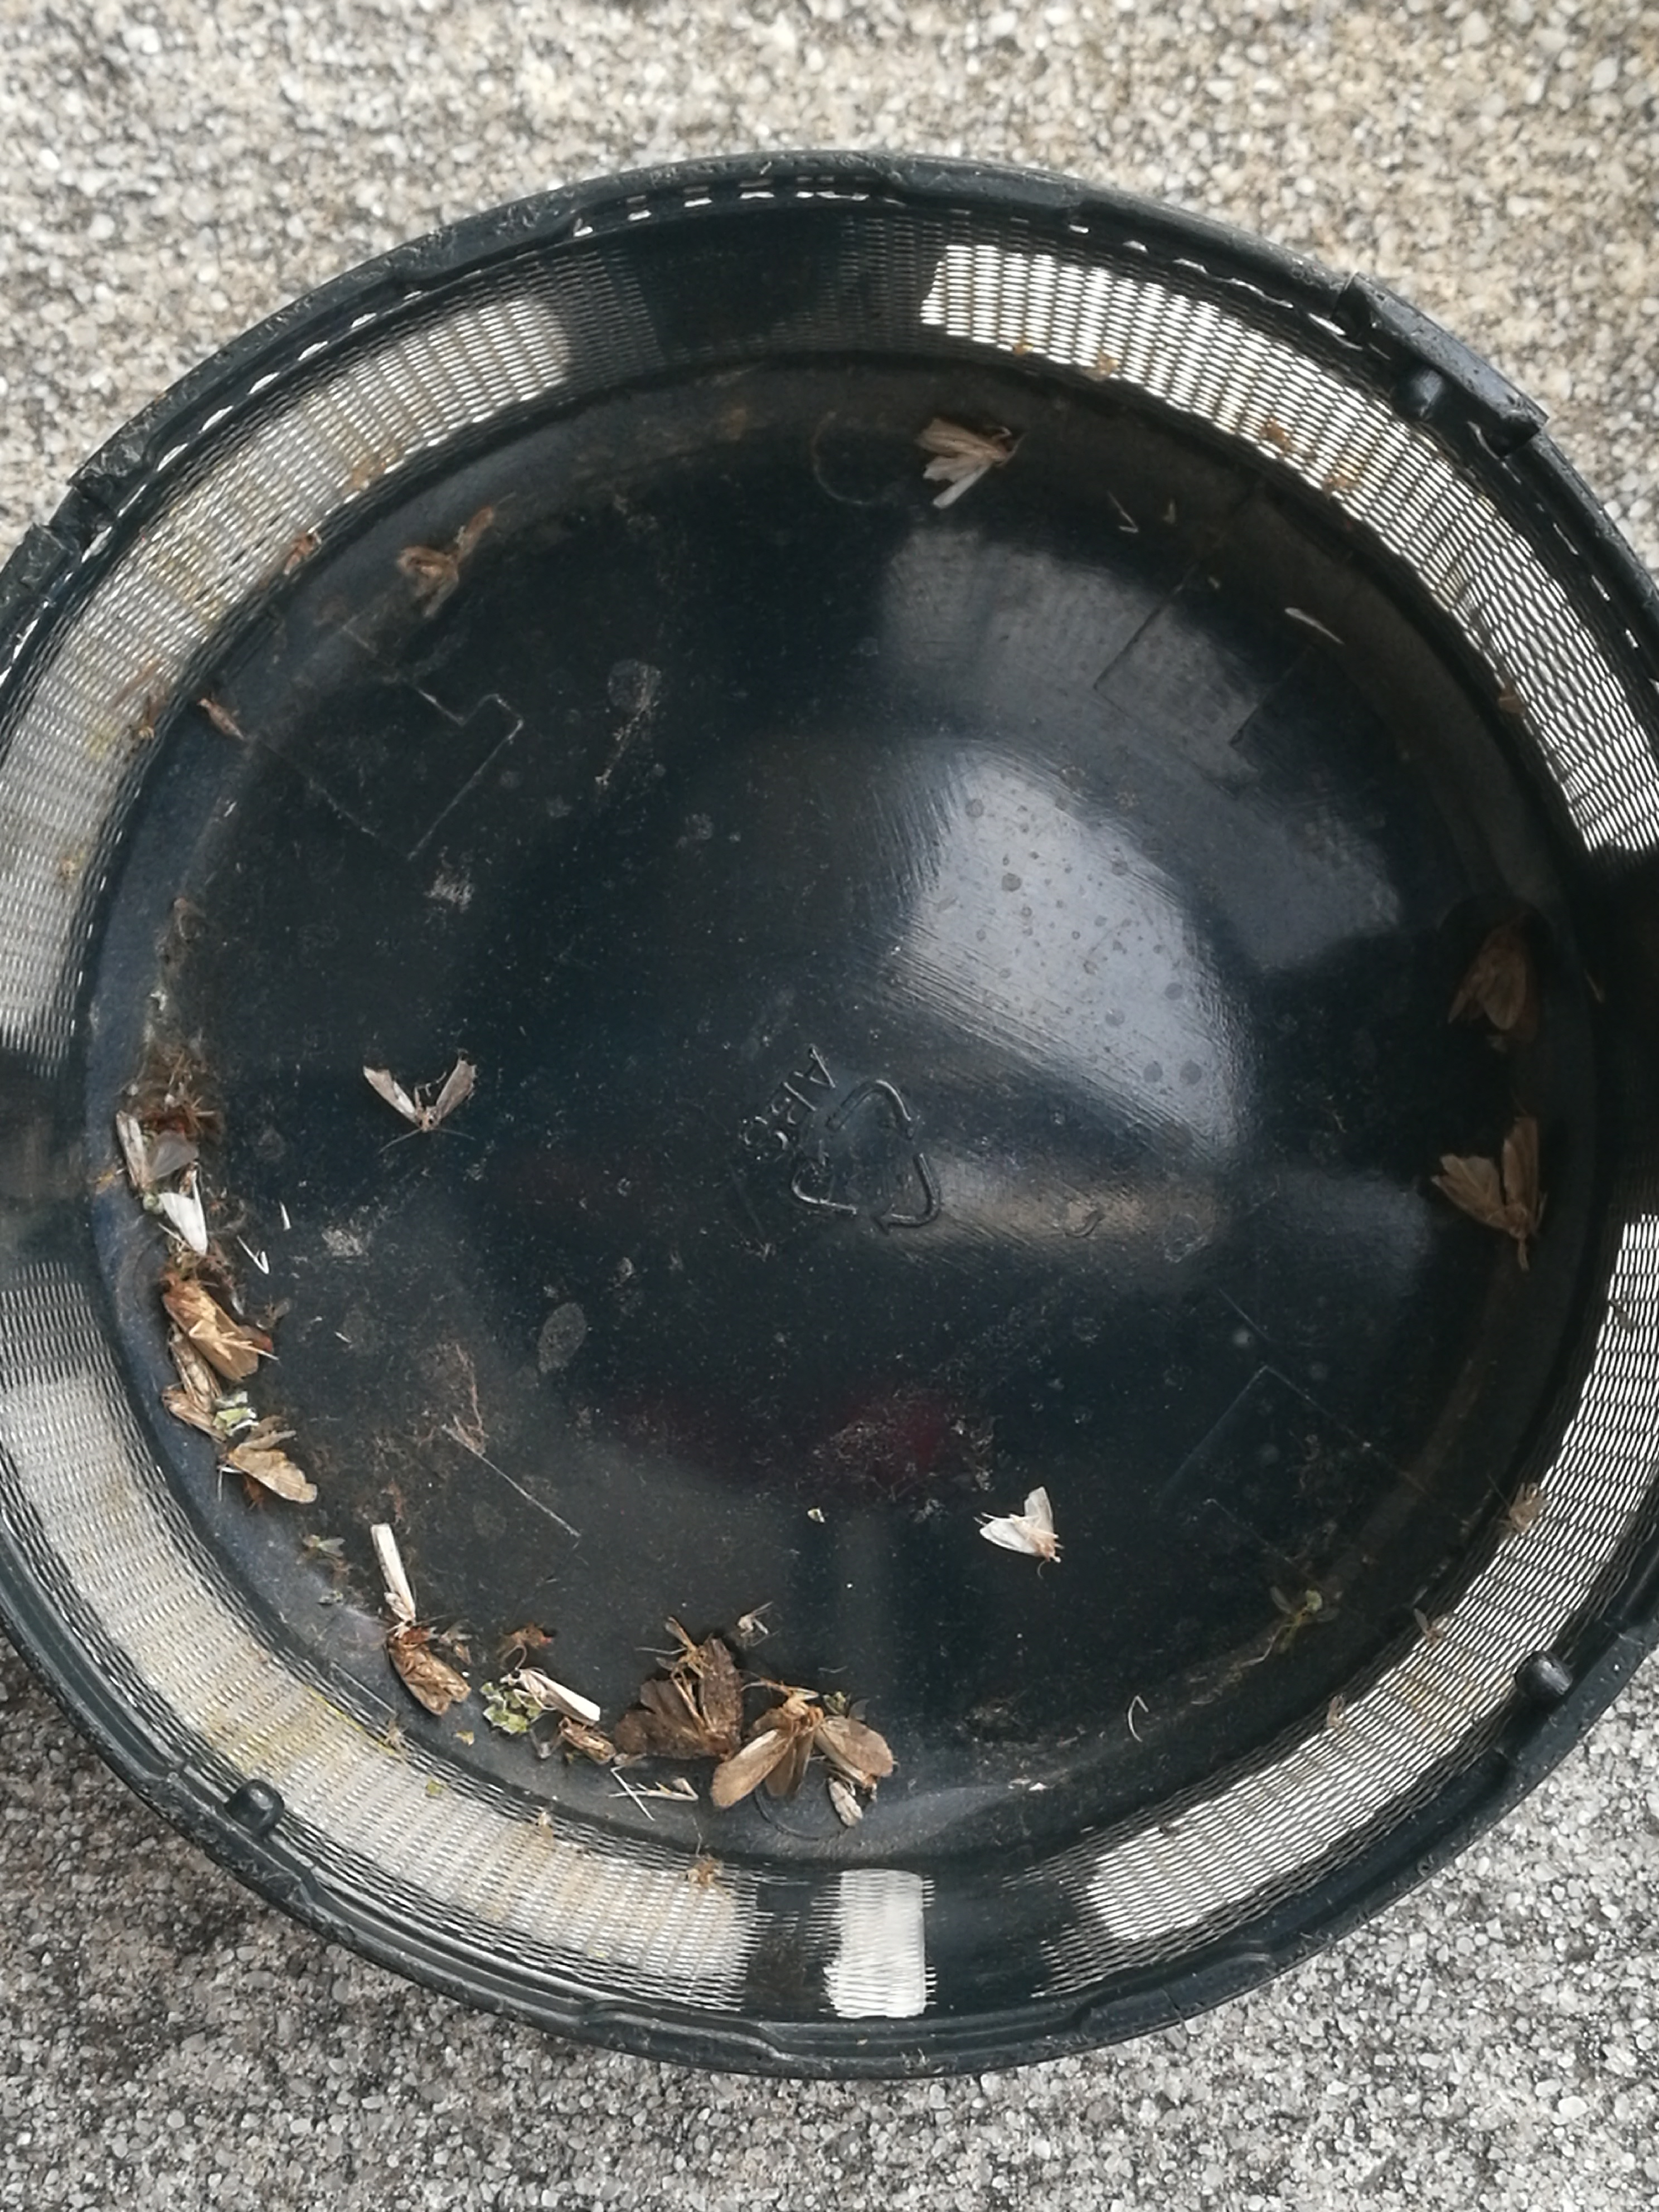mosquito: (159, 1271, 258, 1381), (495, 1672, 601, 1724), (169, 1322, 221, 1407), (373, 1522, 413, 1629), (162, 1392, 228, 1439), (561, 1717, 610, 1766), (824, 1780, 863, 1829)
moth: (711, 1700, 894, 1810), (615, 1634, 741, 1759), (1431, 1118, 1542, 1244), (1452, 911, 1537, 1038), (918, 416, 1009, 507), (364, 1057, 472, 1132), (218, 1420, 315, 1501), (387, 1632, 472, 1712), (119, 1113, 199, 1195), (979, 1486, 1060, 1564), (159, 1193, 209, 1256)
